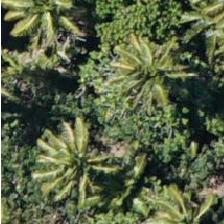coconut_tree: (35, 113, 125, 203), (114, 21, 204, 111)
